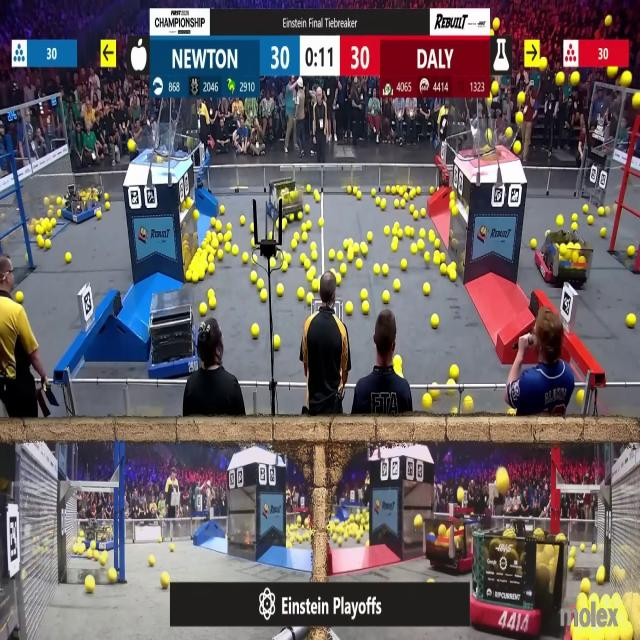ball_airborne: (496, 470, 509, 495), (622, 72, 632, 86), (556, 72, 565, 85), (570, 72, 579, 85), (633, 94, 640, 110), (607, 66, 616, 78), (457, 488, 464, 502), (492, 83, 499, 97), (514, 142, 522, 154), (518, 92, 526, 104), (493, 19, 500, 32), (604, 15, 612, 26), (505, 128, 512, 140), (129, 140, 136, 152), (539, 58, 546, 70), (517, 112, 524, 123), (488, 130, 492, 141)
ball_ground: (87, 578, 96, 594), (162, 572, 171, 587), (463, 396, 472, 411), (597, 568, 605, 584), (251, 323, 259, 338), (627, 314, 636, 327), (423, 394, 432, 407), (393, 356, 402, 369), (451, 364, 459, 378), (109, 568, 117, 582), (583, 580, 591, 594), (274, 336, 281, 351), (200, 304, 208, 317), (262, 289, 270, 302), (431, 314, 438, 328), (346, 303, 354, 315), (382, 290, 390, 302), (296, 287, 304, 299), (576, 390, 584, 402), (415, 516, 423, 528), (628, 246, 636, 257), (360, 288, 367, 300), (277, 284, 284, 296), (209, 296, 216, 308), (556, 215, 564, 225), (15, 291, 22, 302), (423, 283, 430, 294), (348, 251, 355, 262), (312, 281, 319, 292), (217, 249, 224, 260), (362, 302, 368, 314), (251, 272, 257, 284), (341, 264, 347, 276), (361, 243, 367, 255), (186, 198, 192, 210), (450, 272, 457, 282), (307, 293, 314, 303), (208, 265, 215, 275), (374, 266, 381, 276), (338, 251, 345, 261), (433, 253, 440, 263), (223, 243, 230, 253), (394, 280, 400, 291), (382, 266, 388, 277), (400, 261, 406, 272), (356, 260, 362, 271), (308, 271, 314, 282), (442, 265, 448, 276), (101, 555, 107, 566), (302, 234, 309, 243), (431, 390, 438, 399), (44, 240, 51, 249), (66, 252, 72, 262), (243, 253, 249, 263), (530, 240, 536, 250), (291, 240, 297, 250), (424, 252, 430, 262), (412, 244, 418, 254), (420, 230, 426, 240), (282, 264, 288, 274), (328, 250, 334, 260), (600, 229, 606, 239), (337, 276, 343, 286), (312, 251, 318, 261), (384, 225, 390, 235), (441, 253, 447, 263), (200, 271, 206, 281), (315, 191, 321, 201), (148, 556, 154, 566), (216, 220, 222, 230), (568, 559, 574, 569), (397, 230, 403, 240), (419, 240, 425, 250), (392, 242, 398, 252), (420, 208, 426, 218), (285, 253, 291, 263), (270, 258, 276, 268), (191, 274, 197, 284), (428, 232, 434, 242), (305, 261, 311, 271), (406, 226, 412, 236), (95, 553, 101, 563), (452, 410, 459, 418), (434, 240, 440, 249), (233, 246, 239, 255), (257, 280, 263, 289), (250, 239, 256, 248), (240, 216, 246, 225), (184, 273, 190, 282), (97, 211, 103, 220), (299, 254, 305, 263), (224, 233, 230, 242), (293, 233, 299, 242), (252, 254, 258, 263), (202, 240, 208, 249), (36, 224, 42, 233), (366, 233, 371, 243), (193, 210, 198, 220), (378, 199, 383, 209), (39, 238, 44, 248), (449, 264, 454, 274), (354, 244, 359, 254), (571, 545, 576, 555), (572, 214, 578, 222), (208, 289, 214, 297), (571, 222, 577, 230), (452, 208, 458, 216), (318, 218, 324, 226), (208, 254, 214, 262), (104, 192, 110, 200), (212, 240, 218, 248), (449, 379, 455, 387), (428, 186, 434, 194), (288, 214, 294, 222), (218, 234, 224, 242), (413, 212, 419, 220), (365, 539, 371, 547), (589, 215, 594, 224), (105, 202, 110, 211), (394, 200, 399, 209), (344, 240, 349, 249), (599, 207, 604, 216), (89, 551, 94, 560), (427, 577, 434, 583), (402, 192, 408, 199), (347, 186, 353, 193), (299, 223, 305, 230), (92, 541, 98, 548), (584, 206, 589, 214), (308, 220, 312, 230), (226, 222, 231, 230), (400, 200, 405, 208), (451, 191, 456, 199), (281, 221, 286, 229), (297, 212, 302, 220), (356, 534, 361, 542), (50, 218, 55, 226), (220, 206, 224, 215), (155, 536, 161, 542), (269, 234, 274, 241), (579, 543, 584, 550), (393, 221, 398, 228), (410, 206, 415, 213), (307, 185, 312, 192), (386, 186, 391, 193), (171, 542, 175, 550), (358, 194, 362, 202), (306, 206, 310, 214), (250, 223, 254, 231), (371, 188, 375, 196), (312, 242, 316, 250), (212, 218, 216, 226), (417, 186, 421, 194), (392, 230, 396, 238), (58, 210, 62, 218), (592, 544, 596, 551)
goal: (132, 129, 189, 163), (466, 127, 520, 160)
robot_blue: (148, 304, 198, 380), (266, 175, 305, 221), (62, 180, 101, 224), (88, 524, 114, 550)
robot_red: (468, 528, 535, 628), (537, 229, 592, 288), (424, 516, 473, 576)
